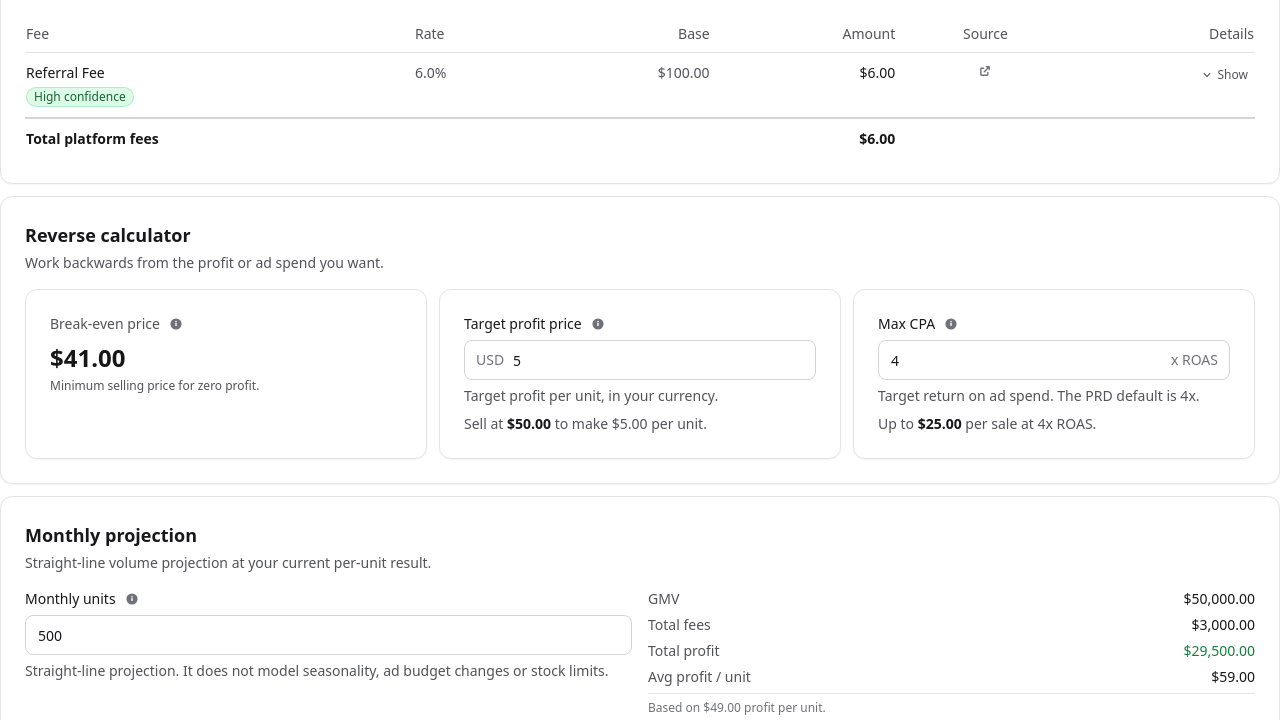
ResultsPanel › re-runs the calculation when the target profit changes
(page scrolled)
Step 1. Replace the text in the number field labelled "Target profit price" with "20" → (640,360), box [464,340,816,380]
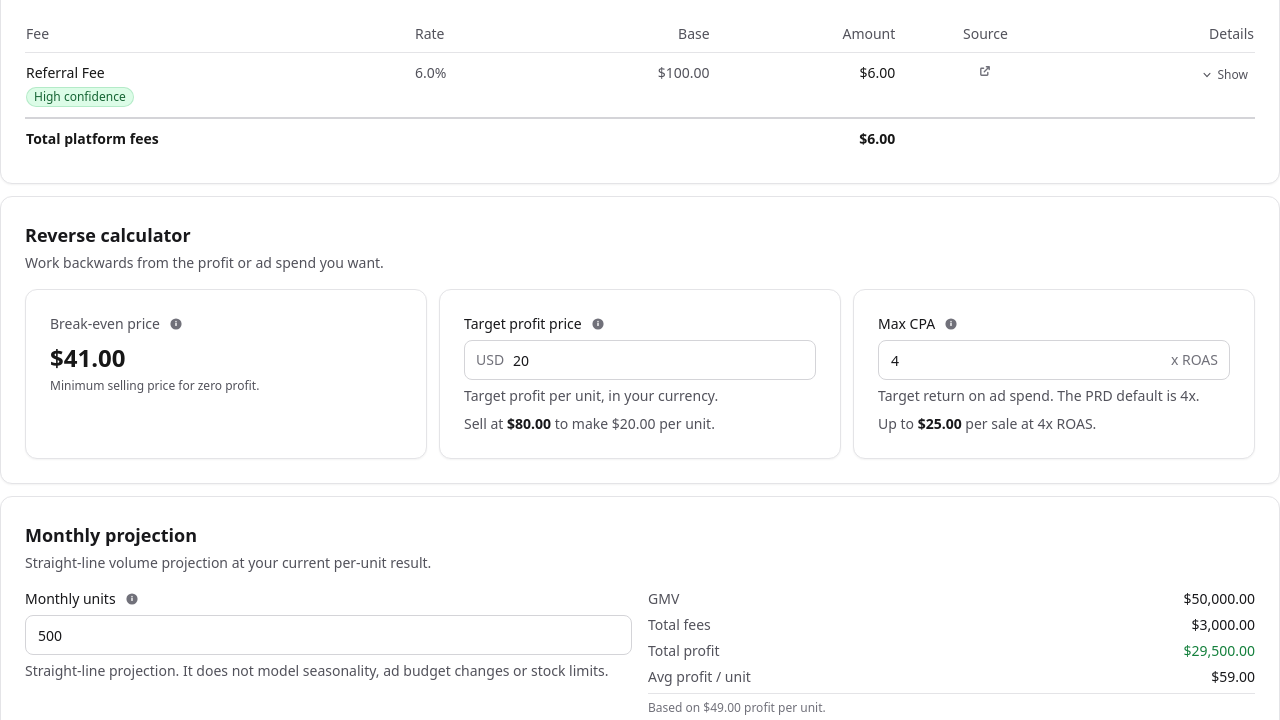
Expected: the text "$80.00" is shown, [507,414,551,433]
